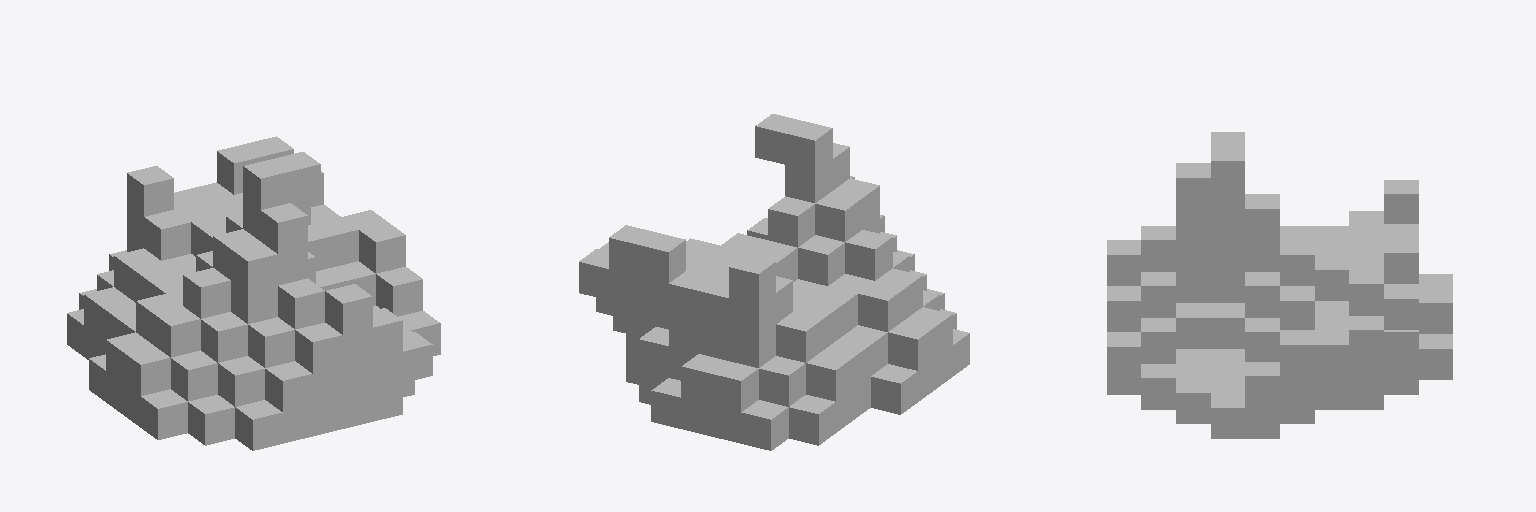
File: Stone2.obj
3 views of the same model, side by side, from view 1: azimuth 30°, elevation 25°; view 2: azimuth 150°, elevation 25°; view 3: azimuth 270°, elevation 25° (orthographic).
Visible parts, largest first — view 1: object 1; view 2: object 1; view 3: object 1.
Boxes of the visible parts, x1,y1,x2,y2 form: object 1: [67, 136, 440, 450]; object 1: [579, 114, 969, 450]; object 1: [1107, 132, 1452, 438].
Size of the model in its own units: 1 by 0.7 by 1.